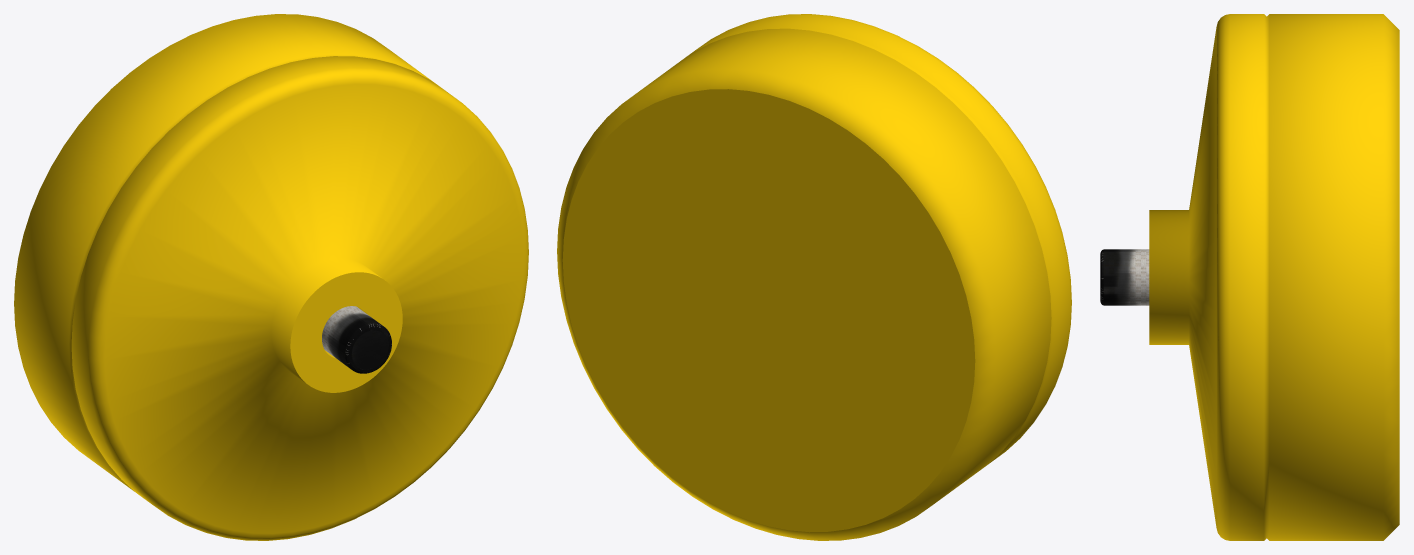
The model's file is Light.glb.
3 views of the same model, side by side, from view 1: azimuth 30°, elevation 25°; view 2: azimuth 150°, elevation 25°; view 3: azimuth 270°, elevation 25° (orthographic). The views are drawn at different scales.
Parts seen in each view (by area): view 1: Cylinder.002, Cylinder.023; view 2: Cylinder.002; view 3: Cylinder.002, Cylinder.023.
Part boxes in pixels (left/top/right/bottom): Cylinder.002: left=14, top=14, right=528, bottom=540; Cylinder.023: left=322, top=306, right=391, bottom=373; Cylinder.002: left=557, top=14, right=1071, bottom=540; Cylinder.002: left=1149, top=14, right=1399, bottom=540; Cylinder.023: left=1100, top=249, right=1149, bottom=305.
Size of the model in its own units: 2 by 2 by 1.14.
2 materials, 1 textured.
